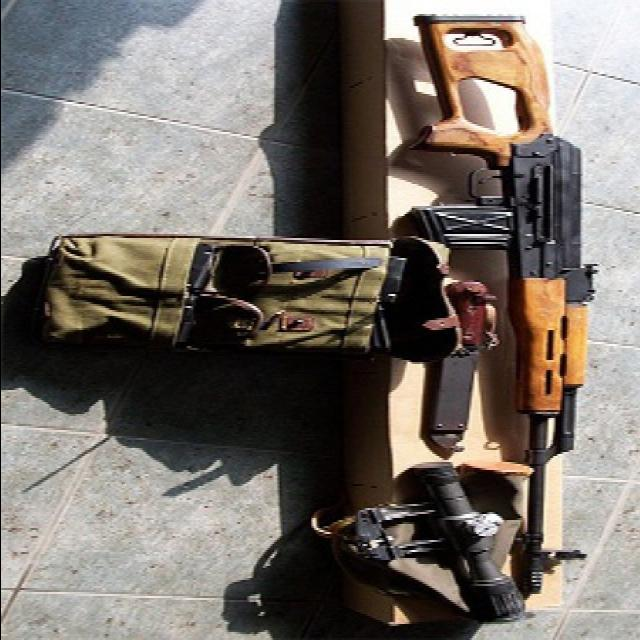rifle: (398, 5, 614, 607)
